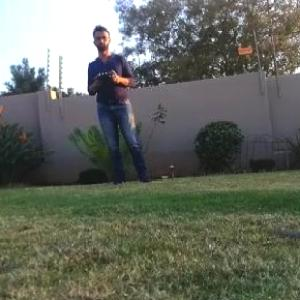follow: (85, 16, 158, 189)
